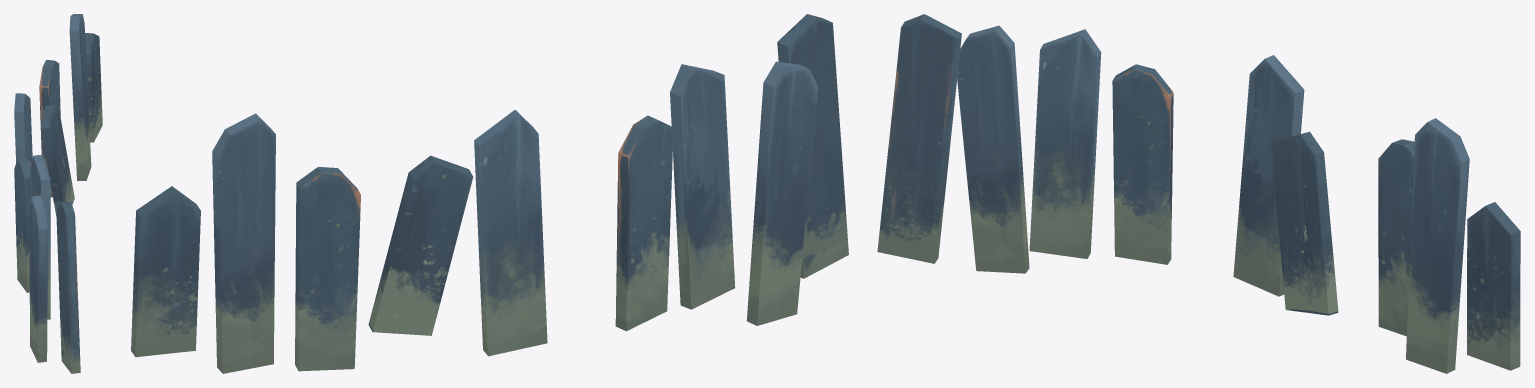
Rendered from Forest_House_Fence_03.glb.
3 renders of one model, left to right at view 1: azimuth 30°, elevation 25°; view 2: azimuth 150°, elevation 25°; view 3: azimuth 270°, elevation 25°, orthographic. The views are drawn at different scales.
Parts seen in each view (by area): view 1: FenceLeft; view 2: FenceLeft; view 3: FenceLeft.
Part boxes in pixels (<box>): FenceLeft: <box>14,14,102,373</box>; FenceLeft: <box>131,14,848,373</box>; FenceLeft: <box>877,14,1520,373</box>.
Size of the model in its own units: 0.0129 by 0.00942 by 0.0194.
Materials: 1 (1 with a texture image).
